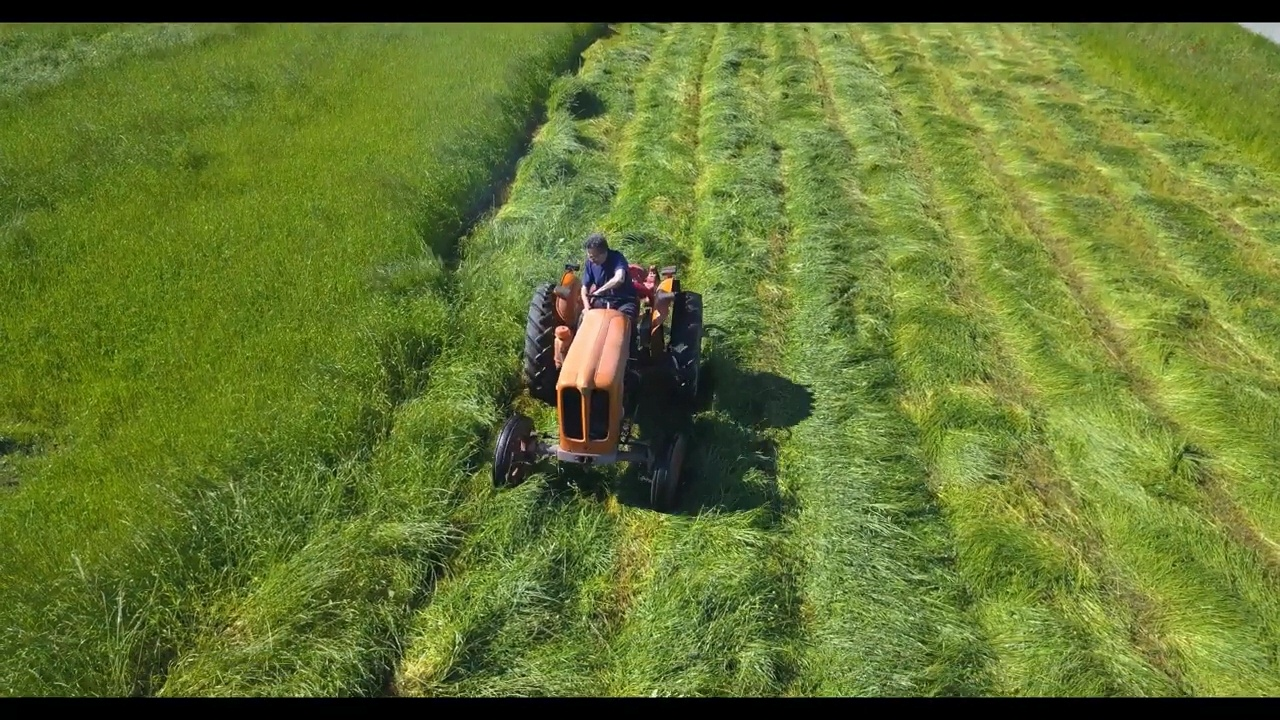insan: (579, 233, 638, 326)
traktor: (492, 260, 704, 509)
